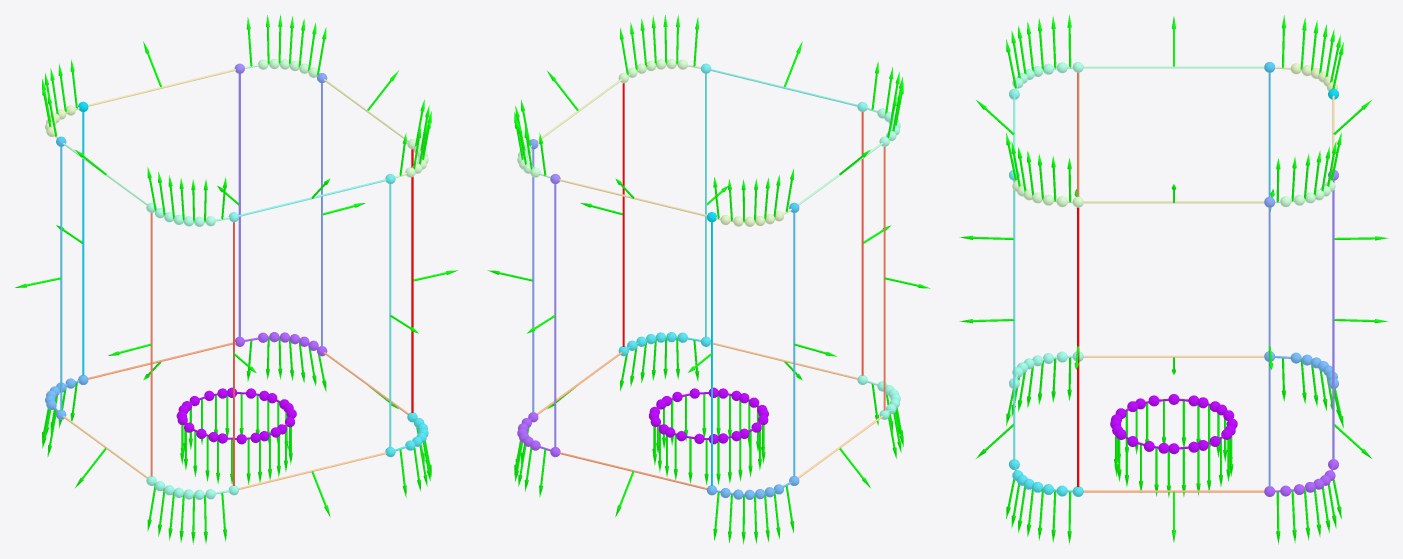
The model's file is onshape_simple_shape.gltf.
The picture shows the model from 3 angles, left to right: view 1: azimuth 30°, elevation 25°; view 2: azimuth 150°, elevation 25°; view 3: azimuth 270°, elevation 25°; orthographic projection. The views are drawn at different scales.
Bounding box in the file's own units: 0.7772 × 0.776 × 0.7771.
